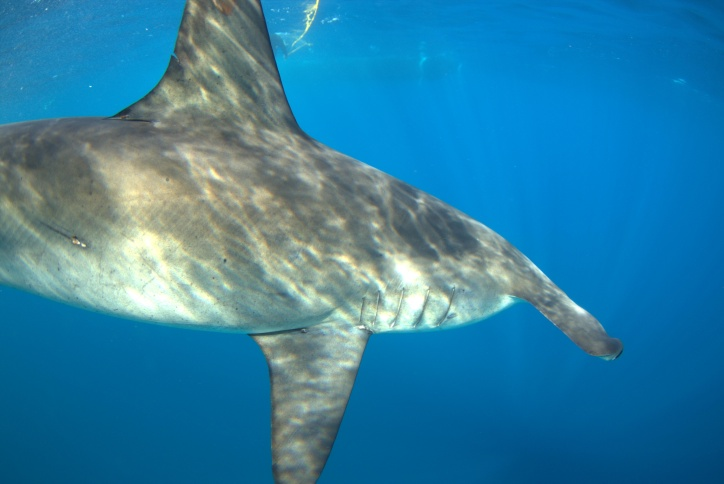Hammer: (34, 1, 655, 481)
